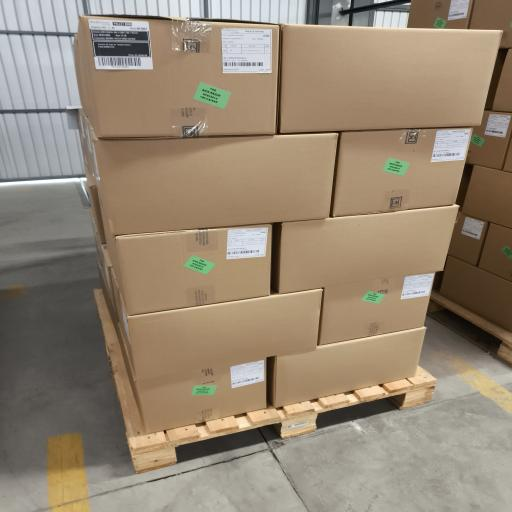pallet: (94, 290, 436, 472), (429, 290, 511, 364)
